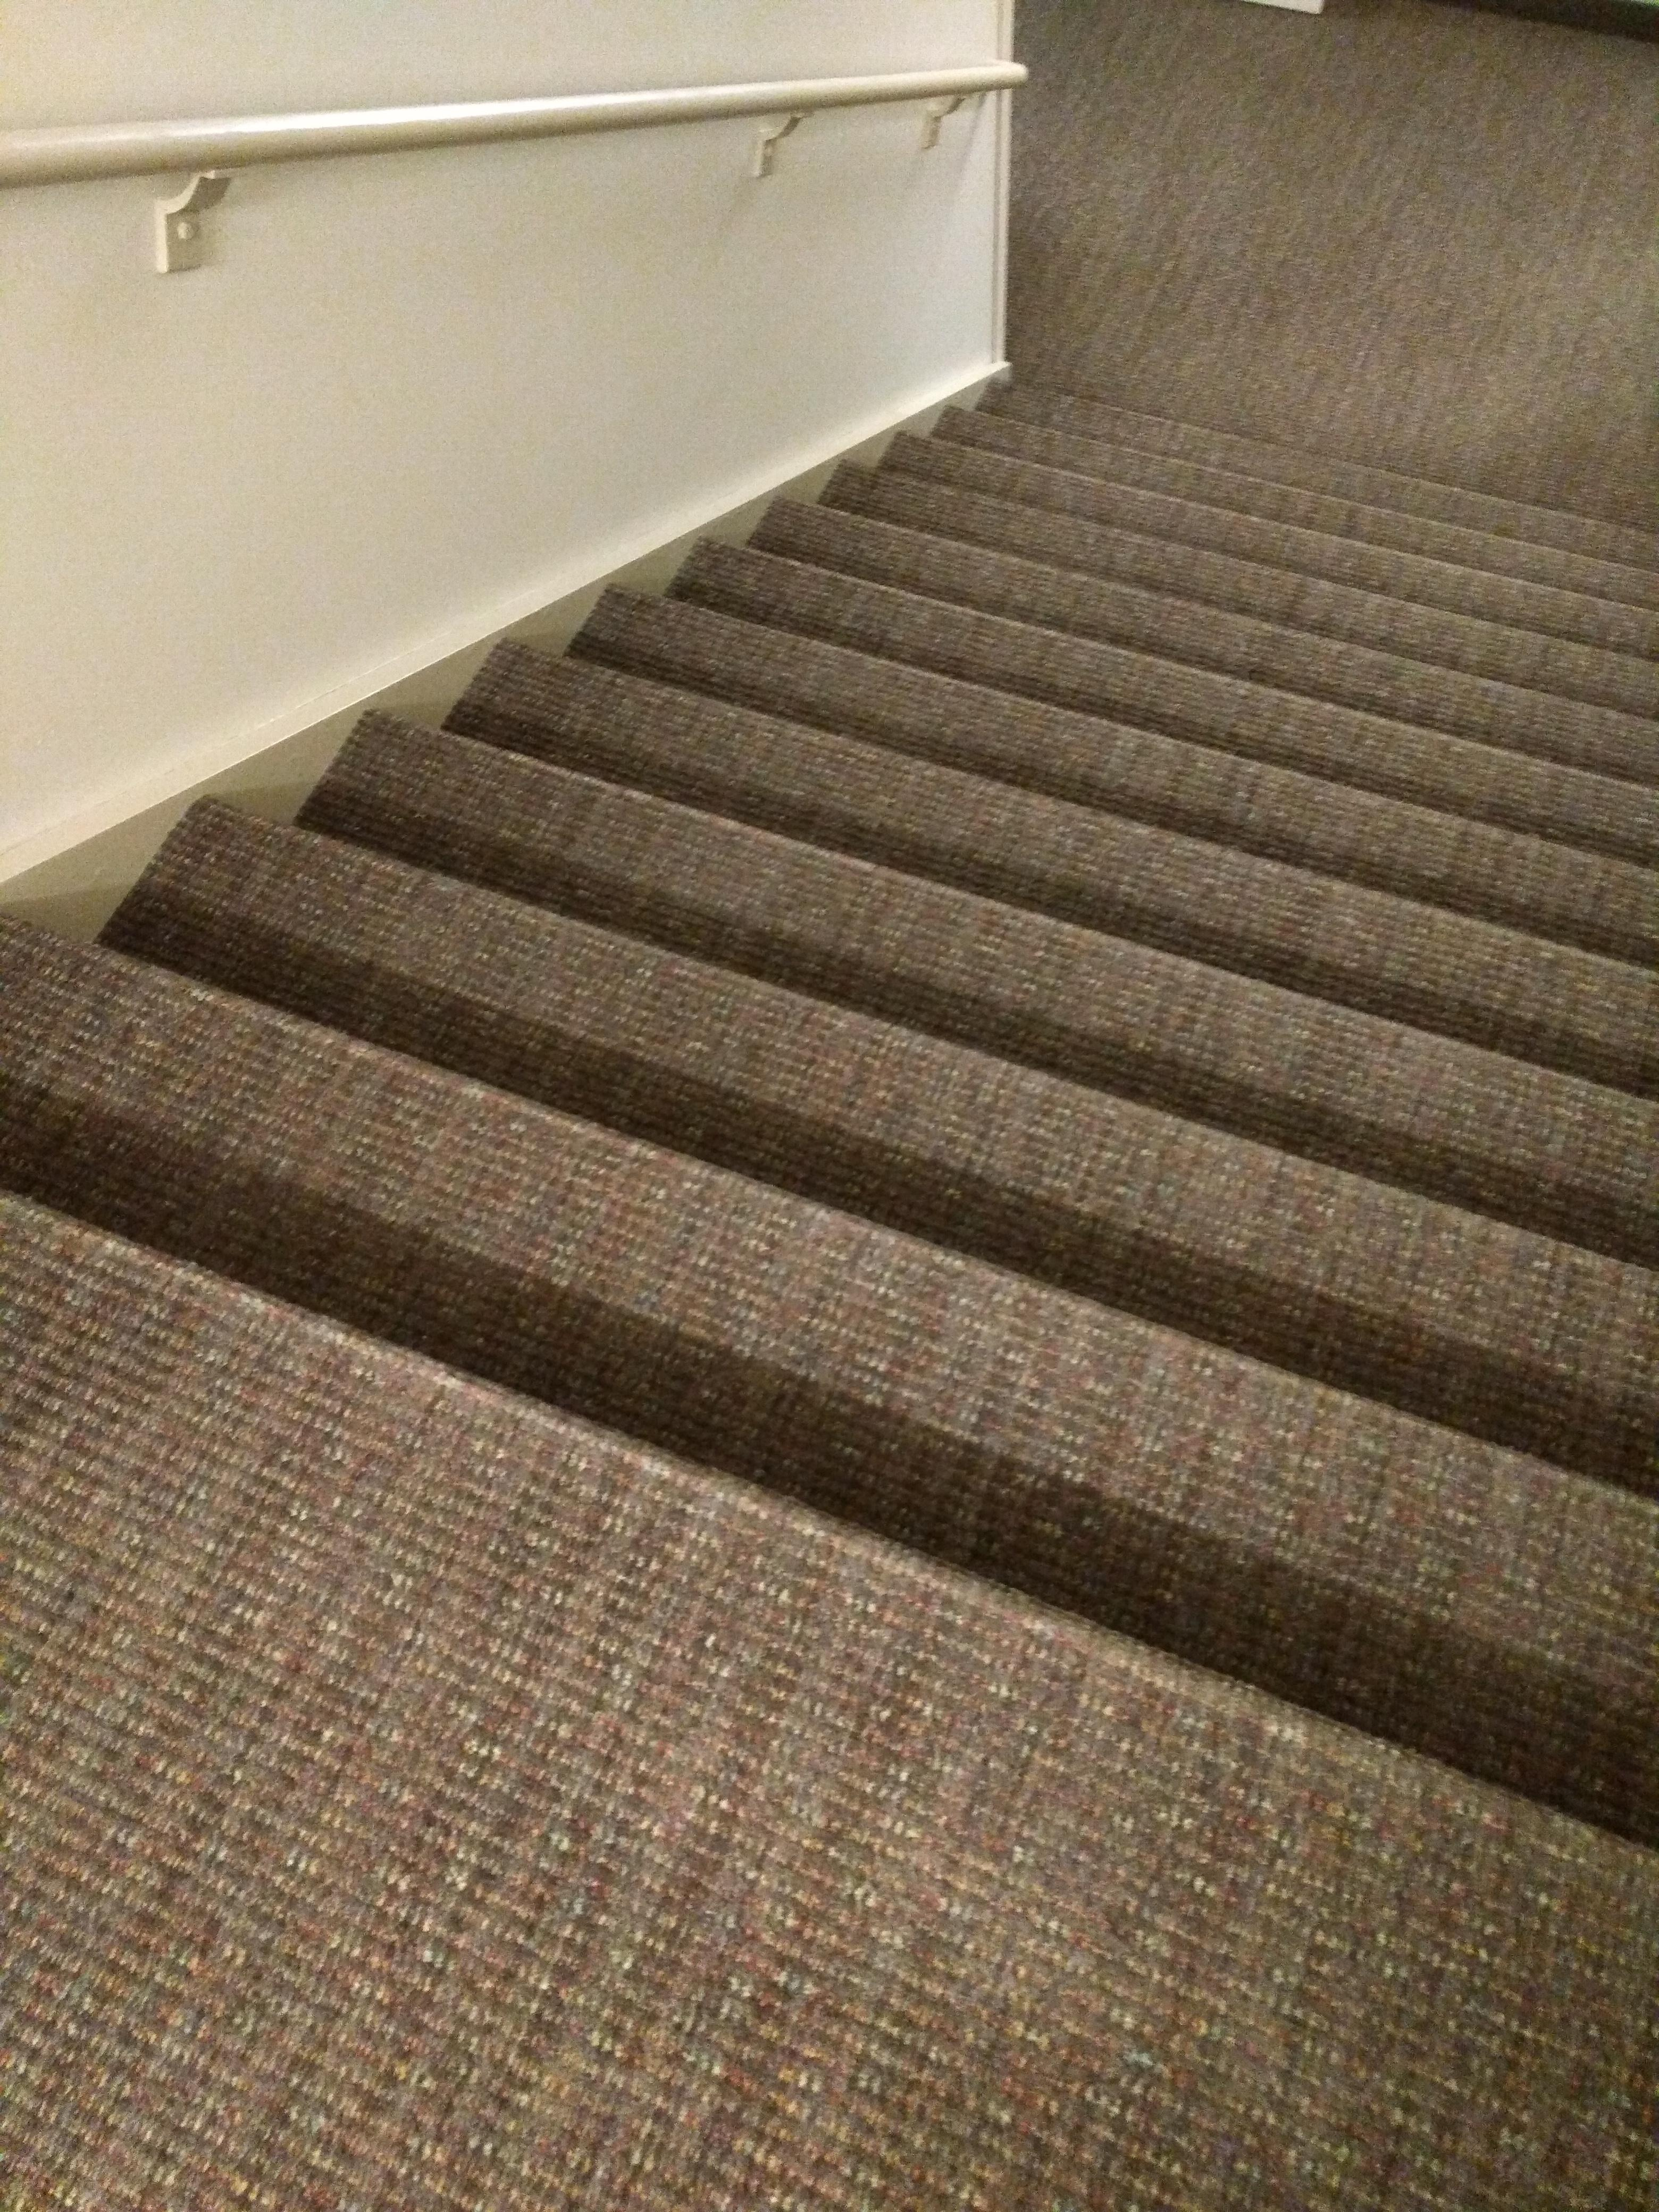stairs_down: (5, 355, 1659, 1881)
